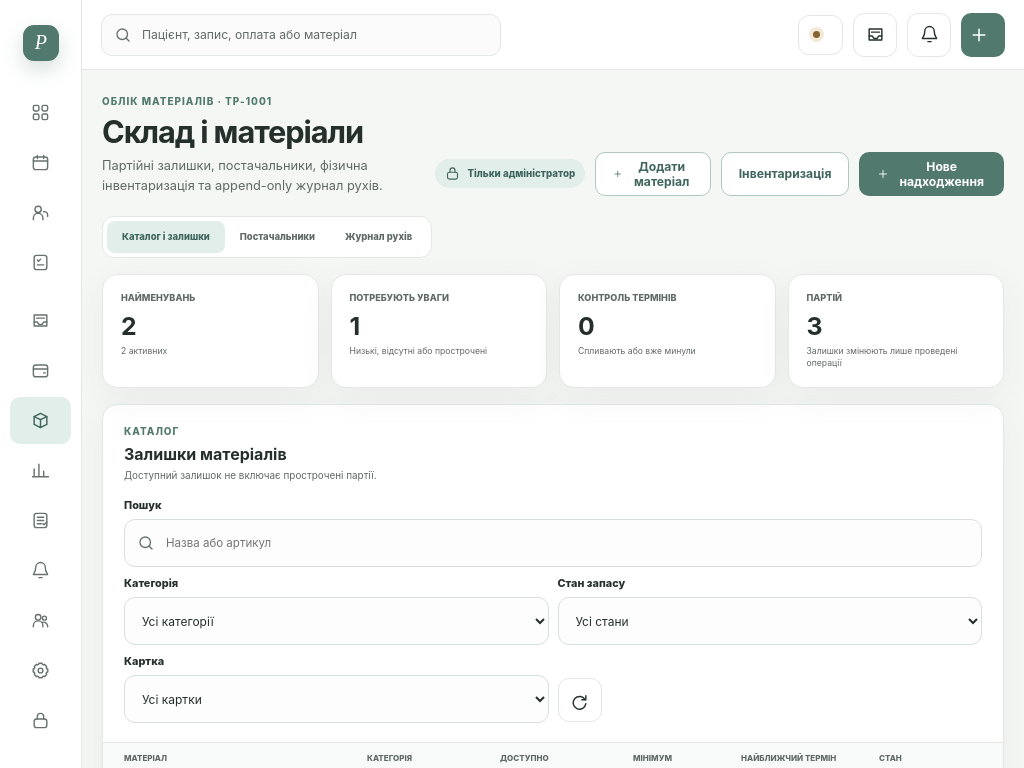
TP-501 inventory material and lot catalog › filters the admin catalog and opens FEFO lot details
The width and height of the screenshot is (1024, 768).
Expected: the heading "Склад і матеріали" is shown, [102,113,363,150]
Step 1. Select "Захист" in the dropdown labelled "Категорія" → (336, 621), box [124,597,548,645]
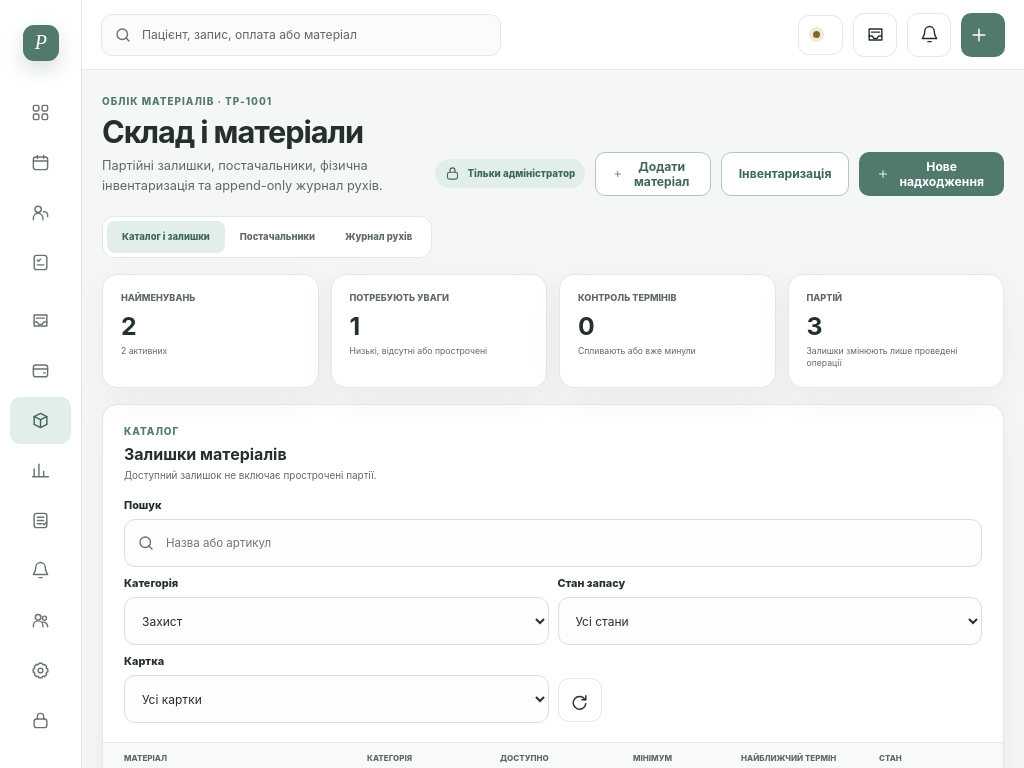
Expected: the text "Каполін, 1 см" is not shown
Step 2. Click the button named "Скинути фільтри" → (580, 700), box [558,678,602,722]
(page scrolled)
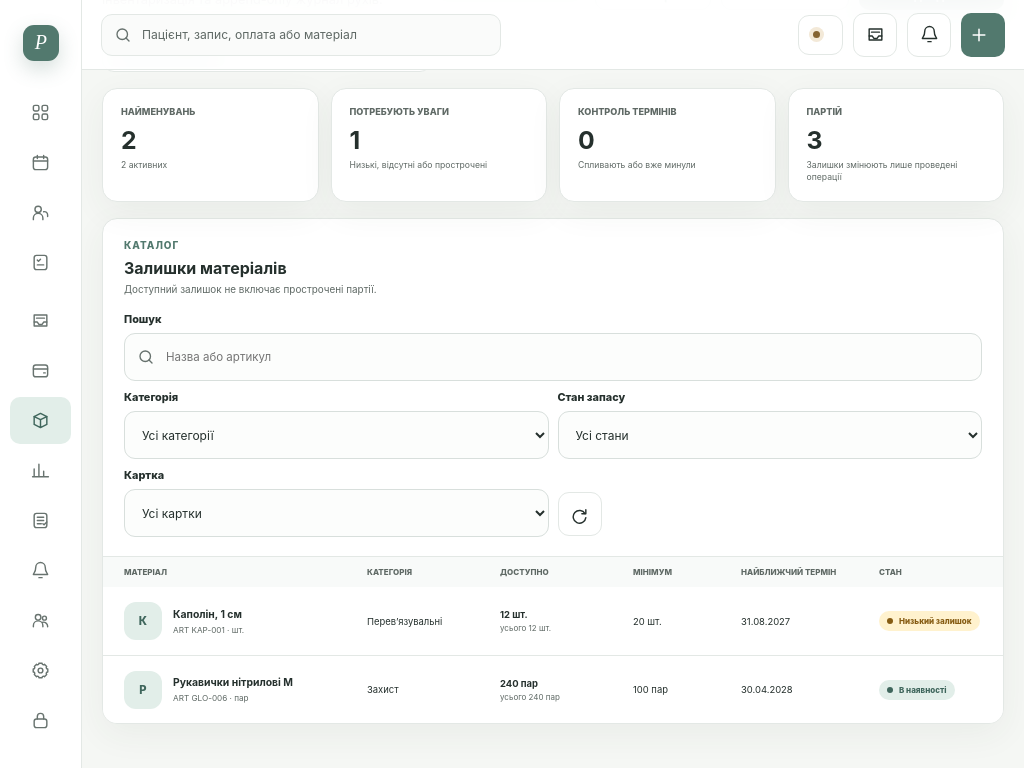
Step 3. Click the button with aria-label "Відкрити Каполін, 1 см" → (143, 621), box [103,587,1023,655]
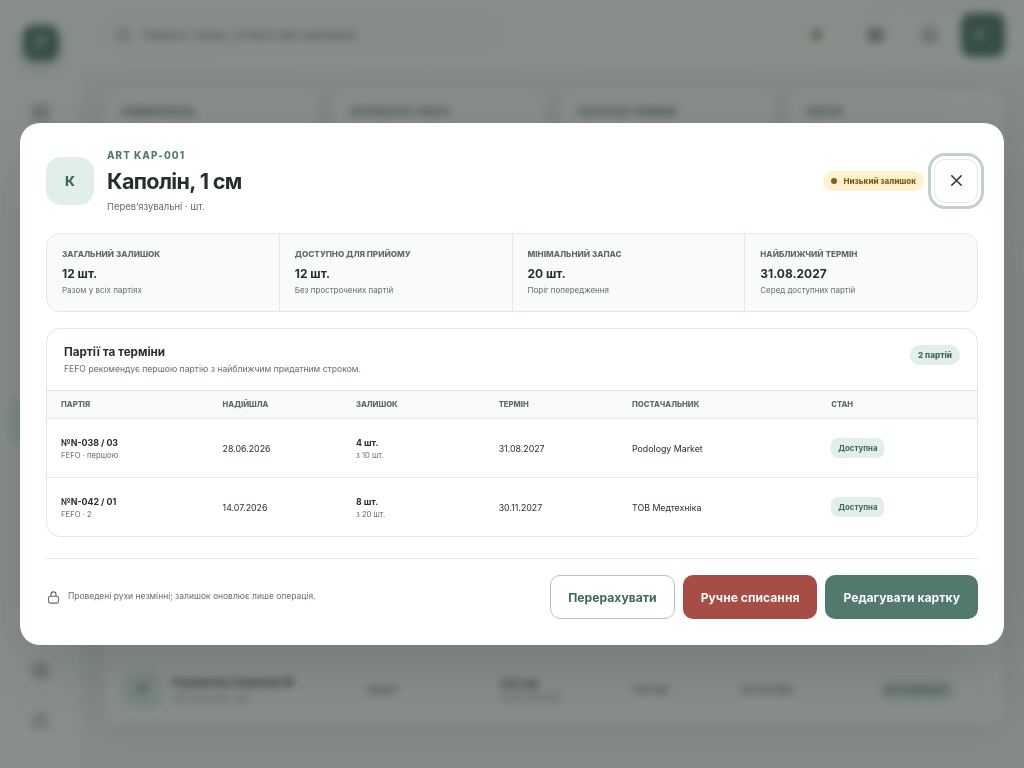
Expected: the heading "Партії та терміни" is shown, [64,345,165,359]
Expected: the text "№N-038 / 03" is shown, [61,437,118,448]
Expected: the text "FEFO · першою" is shown, [61,451,118,460]
